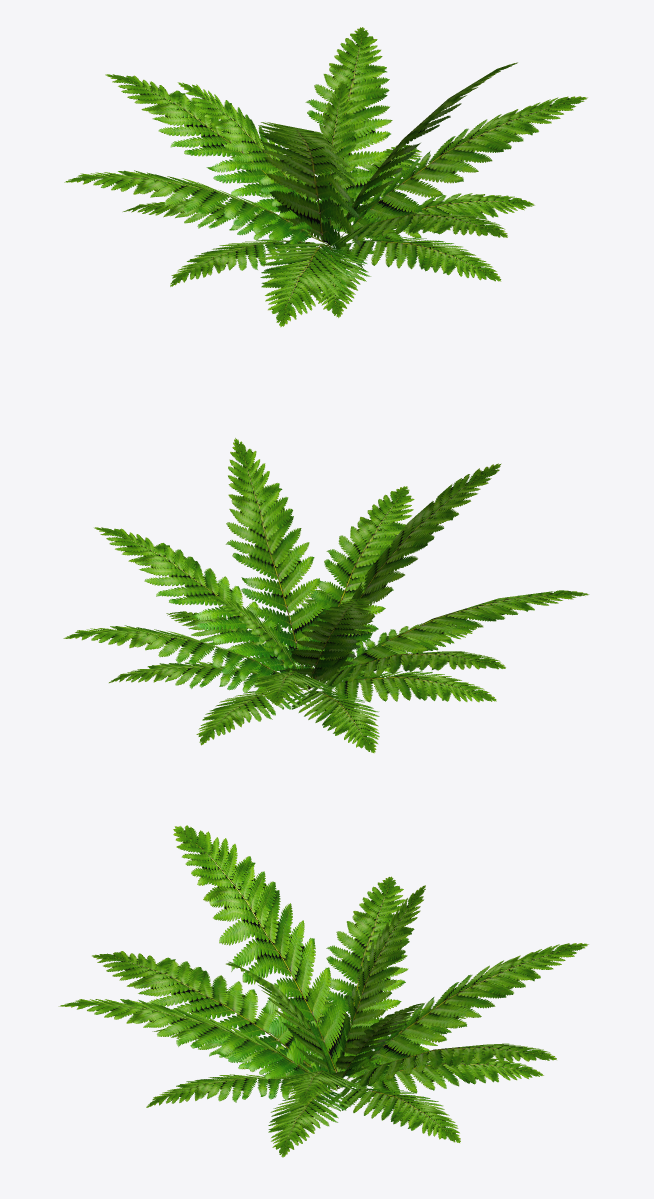
File: Bushtry.FBX
3 views of the same model, one above another, from view 1: azimuth 30°, elevation 25°; view 2: azimuth 150°, elevation 25°; view 3: azimuth 270°, elevation 25° (orthographic). The views are drawn at different scales.
Parts seen in each view (by area): view 1: Plane011, Plane015, Plane012, Plane013, Plane008, Plane009, Plane014, Plane005, Plane017, Plane010, Plane016, Plane006 (+4 smaller); view 2: Plane016, Plane011, Plane010, Plane015, Plane009, Plane012, Plane014, Plane003, Plane002, Plane008, Plane001, Plane007 (+4 smaller); view 3: Plane015, Plane009, Plane013, Plane010, Plane008, Plane014, Plane007, Plane012, Plane001, Plane006, Plane005, Plane017 (+4 smaller).
Part boxes in pixels (bbox=[...]): Plane011: bbox=[341, 96, 587, 239]; Plane015: bbox=[258, 122, 363, 268]; Plane012: bbox=[305, 27, 392, 222]; Plane013: bbox=[105, 74, 322, 224]; Plane008: bbox=[64, 170, 328, 247]; Plane009: bbox=[260, 243, 359, 327]; Plane014: bbox=[177, 82, 322, 229]; Plane005: bbox=[338, 237, 501, 281]; Plane017: bbox=[313, 80, 357, 228]; Plane010: bbox=[324, 214, 507, 250]; Plane016: bbox=[337, 62, 517, 234]; Plane006: bbox=[351, 193, 534, 254]; Plane016: bbox=[225, 438, 327, 686]; Plane011: bbox=[94, 527, 298, 670]; Plane010: bbox=[298, 486, 414, 687]; Plane015: bbox=[308, 463, 501, 689]; Plane009: bbox=[337, 590, 589, 683]; Plane012: bbox=[63, 625, 280, 684]; Plane014: bbox=[286, 598, 372, 687]; Plane003: bbox=[320, 671, 496, 702]; Plane002: bbox=[287, 690, 379, 753]; Plane008: bbox=[308, 651, 505, 696]; Plane001: bbox=[196, 689, 311, 745]; Plane007: bbox=[109, 661, 302, 694]; Plane015: bbox=[173, 825, 350, 1101]; Plane009: bbox=[92, 951, 325, 1079]; Plane013: bbox=[338, 943, 588, 1088]; Plane010: bbox=[58, 999, 311, 1087]; Plane008: bbox=[310, 876, 408, 1087]; Plane014: bbox=[337, 885, 425, 1087]; Plane007: bbox=[327, 1088, 460, 1142]; Plane012: bbox=[337, 1043, 556, 1096]; Plane001: bbox=[339, 1057, 543, 1102]; Plane006: bbox=[268, 1089, 355, 1157]; Plane005: bbox=[146, 1074, 331, 1107]; Plane017: bbox=[332, 1003, 424, 1087].
Bounding box in the file's own units: 272 × 118 × 266.
1 material, 1 textured.
